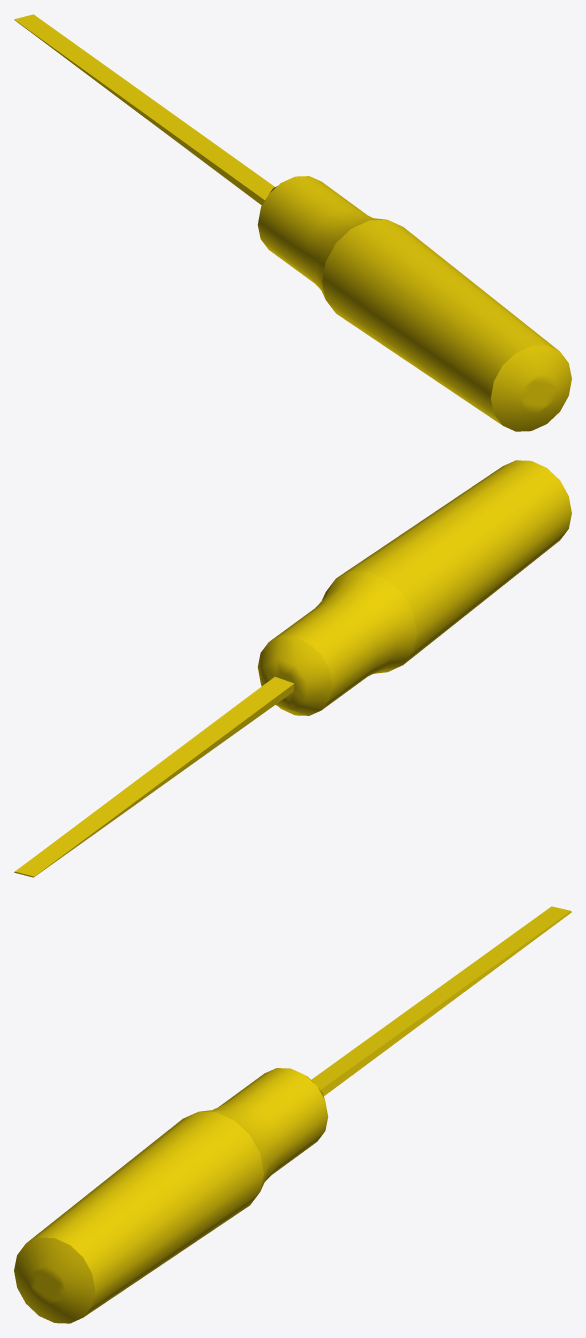
File: Destornillador.fbx
3 views of the same model, one above another, from view 1: azimuth 30°, elevation 25°; view 2: azimuth 150°, elevation 25°; view 3: azimuth 330°, elevation 25° (orthographic).
Parts seen in each view (by area): view 1: Destornillador; view 2: Destornillador; view 3: Destornillador.
Boxes of the visible parts, x1=… form: Destornillador: x1=14, y1=14, x2=571, y2=431; Destornillador: x1=14, y1=460, x2=571, y2=877; Destornillador: x1=14, y1=906, x2=571, y2=1323.
Bounding box in the file's own units: 4.67 × 4.67 × 43.79.
